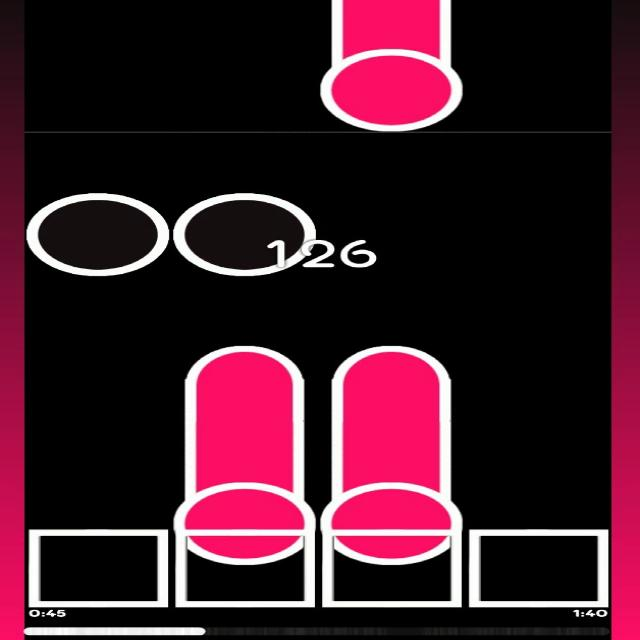end_hold: (185, 336, 302, 394), (336, 339, 453, 396)
note: (169, 186, 318, 279), (28, 188, 169, 276)
start_hold: (322, 459, 465, 560), (322, 36, 465, 137), (180, 463, 314, 564)
